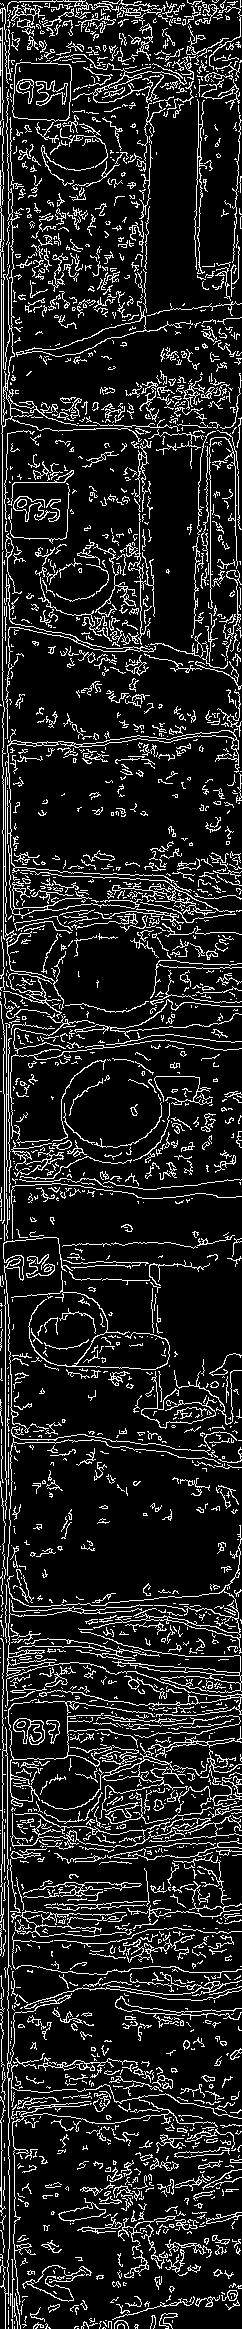hplug: (22, 1283, 110, 1372), (34, 535, 125, 619), (36, 105, 128, 189), (24, 1744, 110, 1825)
scal: (42, 913, 184, 1034), (50, 1056, 177, 1167)
vplug: (129, 414, 220, 671), (131, 71, 206, 333), (131, 1721, 223, 1934), (143, 1231, 236, 1429)
